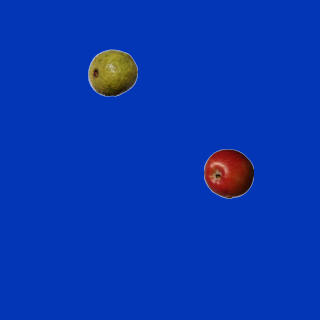Apple Braeburn: (203, 148, 253, 198)
Guava: (87, 47, 137, 97)
